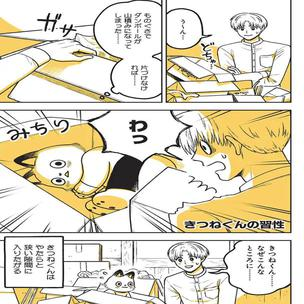bubble: (93, 1, 160, 99), (88, 110, 194, 162), (212, 240, 292, 293), (5, 236, 64, 286), (166, 8, 212, 47)
